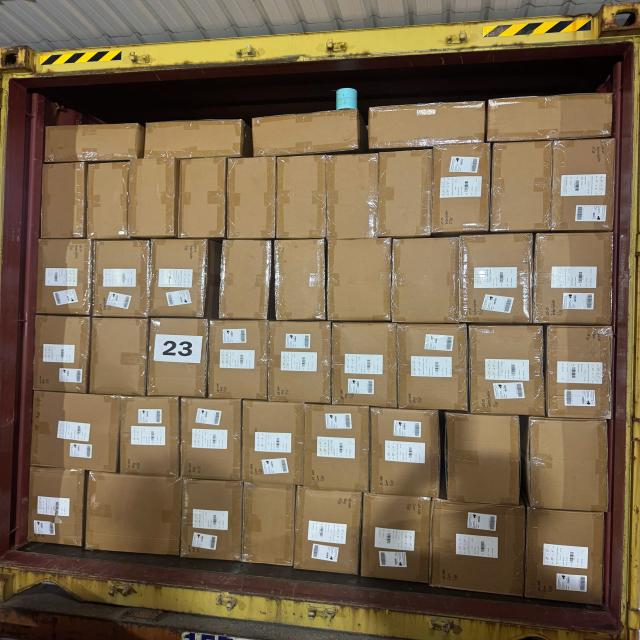Carton: (392, 234, 532, 327), (430, 503, 528, 600), (86, 474, 182, 560), (526, 416, 609, 511), (528, 510, 606, 609), (532, 232, 614, 326), (30, 392, 120, 473), (469, 323, 546, 415), (447, 412, 523, 504), (545, 322, 615, 418), (359, 492, 430, 582), (369, 407, 439, 498), (552, 139, 618, 234), (400, 324, 469, 412), (468, 232, 533, 325), (294, 486, 361, 576), (490, 98, 613, 146), (307, 406, 374, 492), (332, 321, 399, 407), (368, 102, 486, 150), (327, 240, 392, 326), (490, 140, 550, 231), (244, 400, 306, 486), (182, 398, 244, 483), (181, 480, 243, 565), (269, 322, 331, 405), (432, 142, 488, 232), (119, 394, 180, 476), (26, 467, 85, 549), (377, 153, 431, 242), (209, 322, 269, 402), (252, 112, 358, 157), (148, 319, 206, 401), (91, 317, 149, 398), (150, 240, 207, 320), (95, 242, 152, 322), (245, 484, 298, 568), (327, 156, 378, 242), (35, 314, 90, 393), (274, 238, 326, 321), (38, 238, 92, 316), (276, 156, 326, 240), (220, 241, 271, 323), (229, 157, 278, 240), (180, 158, 228, 240), (129, 160, 178, 240), (147, 120, 245, 160), (44, 123, 141, 162), (44, 165, 88, 243), (89, 165, 130, 243)
